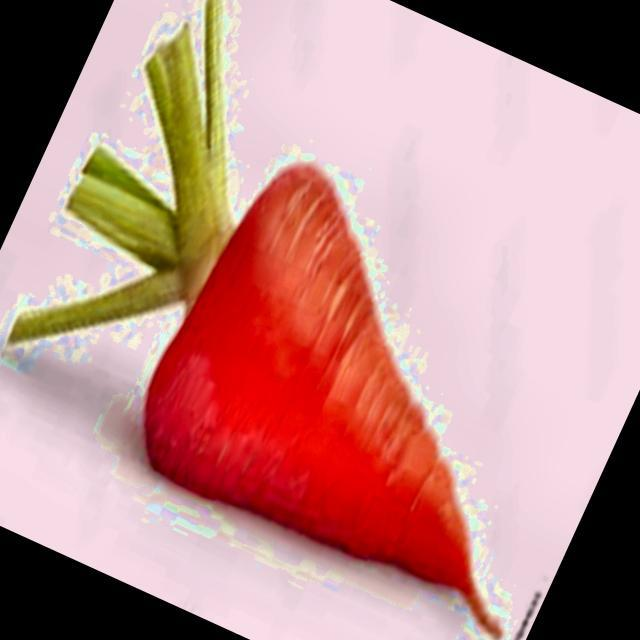carrot: (8, 0, 502, 638)
